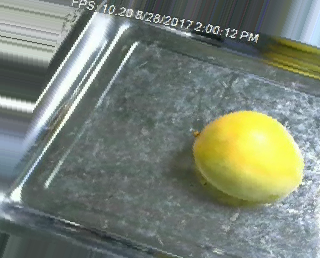Mango: (193, 110, 306, 200)
